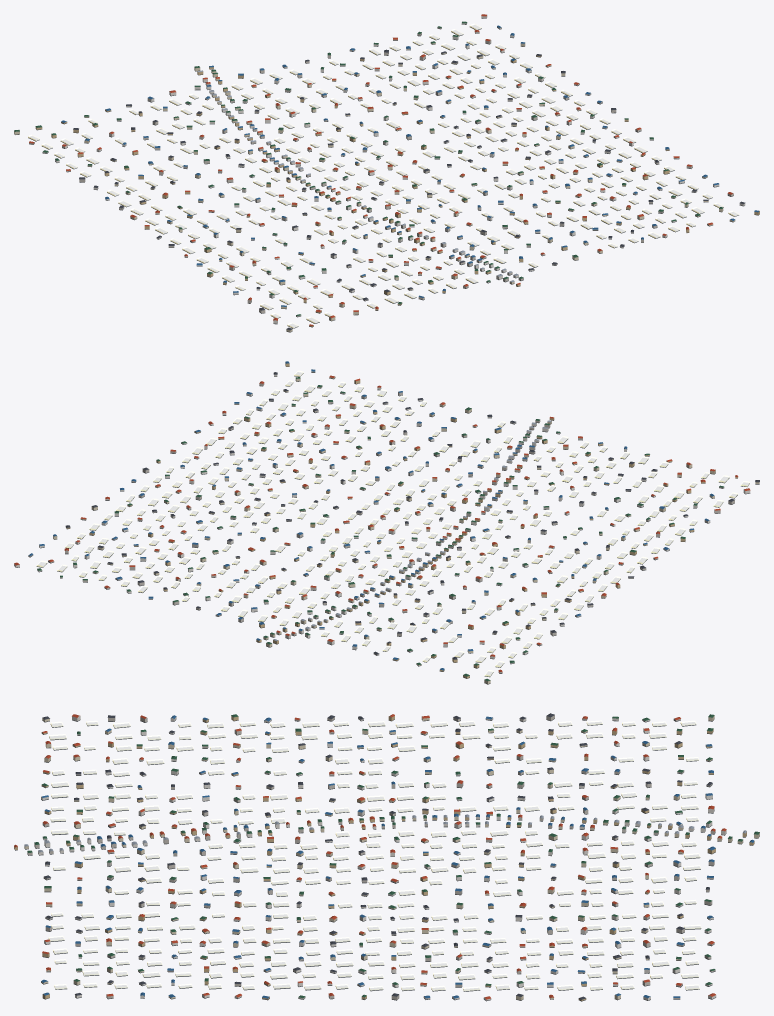
The model's file is buildings_T_W08_N04.glb.
3 renders of one model, top to bottom at view 1: azimuth 30°, elevation 25°; view 2: azimuth 150°, elevation 25°; view 3: azimuth 270°, elevation 25°, orthographic. The views are drawn at different scales.
Visible parts, largest first — view 1: T_W08_N04_roofs_agri_greenhouse_arch, T_W08_N04_slope_seating_foundations, T_W08_N04_walls_wall_modern_warm_white, T_W08_N04_walls_wall_dalat_cream_stucco, T_W08_N04_walls_wall_french_ochre_villa, T_W08_N04_walls_wall_pastel_sand_gray, T_W08_N04_roofs_roof_terracotta_gable, T_W08_N04_roofs_roof_highland_blue_gable, T_W08_N04_roofs_roof_pine_green_hip, T_W08_N04_roofs_roof_slate_French_villa_hip; view 2: T_W08_N04_roofs_agri_greenhouse_arch, T_W08_N04_slope_seating_foundations, T_W08_N04_walls_wall_modern_warm_white, T_W08_N04_walls_wall_dalat_cream_stucco, T_W08_N04_walls_wall_french_ochre_villa, T_W08_N04_walls_wall_pastel_sand_gray, T_W08_N04_roofs_roof_terracotta_gable, T_W08_N04_roofs_roof_highland_blue_gable, T_W08_N04_roofs_roof_pine_green_hip, T_W08_N04_roofs_roof_slate_French_villa_hip; view 3: T_W08_N04_roofs_agri_greenhouse_arch, T_W08_N04_slope_seating_foundations, T_W08_N04_walls_wall_modern_warm_white, T_W08_N04_walls_wall_dalat_cream_stucco, T_W08_N04_walls_wall_french_ochre_villa, T_W08_N04_walls_wall_pastel_sand_gray, T_W08_N04_roofs_roof_terracotta_gable, T_W08_N04_roofs_roof_highland_blue_gable, T_W08_N04_roofs_roof_pine_green_hip, T_W08_N04_roofs_roof_slate_French_villa_hip.
Part boxes in pixels (x1,y1,x2,y2): T_W08_N04_roofs_agri_greenhouse_arch: (28, 23, 739, 328); T_W08_N04_slope_seating_foundations: (14, 18, 759, 332); T_W08_N04_walls_wall_modern_warm_white: (42, 15, 745, 323); T_W08_N04_walls_wall_dalat_cream_stucco: (14, 42, 735, 332); T_W08_N04_walls_wall_french_ochre_villa: (35, 55, 759, 326); T_W08_N04_walls_wall_pastel_sand_gray: (29, 26, 733, 316); T_W08_N04_roofs_roof_terracotta_gable: (29, 14, 733, 325); T_W08_N04_roofs_roof_highland_blue_gable: (61, 25, 759, 306); T_W08_N04_roofs_roof_pine_green_hip: (14, 21, 723, 315); T_W08_N04_roofs_roof_slate_French_villa_hip: (73, 49, 745, 330); T_W08_N04_roofs_agri_greenhouse_arch: (36, 370, 749, 676); T_W08_N04_slope_seating_foundations: (14, 366, 759, 684); T_W08_N04_walls_wall_modern_warm_white: (14, 374, 750, 663); T_W08_N04_walls_wall_dalat_cream_stucco: (53, 371, 759, 683); T_W08_N04_walls_wall_french_ochre_villa: (66, 363, 737, 678); T_W08_N04_walls_wall_pastel_sand_gray: (28, 383, 734, 673); T_W08_N04_roofs_roof_terracotta_gable: (14, 375, 750, 672); T_W08_N04_roofs_roof_highland_blue_gable: (28, 361, 714, 670); T_W08_N04_roofs_roof_pine_green_hip: (37, 377, 723, 681); T_W08_N04_roofs_roof_slate_French_villa_hip: (66, 372, 759, 659); T_W08_N04_roofs_agri_greenhouse_arch: (48, 720, 701, 991); T_W08_N04_slope_seating_foundations: (14, 718, 759, 1001); T_W08_N04_walls_wall_modern_warm_white: (38, 716, 726, 1000); T_W08_N04_walls_wall_dalat_cream_stucco: (24, 715, 759, 1000); T_W08_N04_walls_wall_french_ochre_villa: (14, 716, 754, 1000); T_W08_N04_walls_wall_pastel_sand_gray: (27, 715, 715, 999); T_W08_N04_roofs_roof_terracotta_gable: (14, 714, 726, 999); T_W08_N04_roofs_roof_highland_blue_gable: (41, 715, 754, 998); T_W08_N04_roofs_roof_pine_green_hip: (27, 714, 759, 998); T_W08_N04_roofs_roof_slate_French_villa_hip: (42, 713, 712, 999).
Size of the model in its own units: 1754 by 26.68 by 1936.
